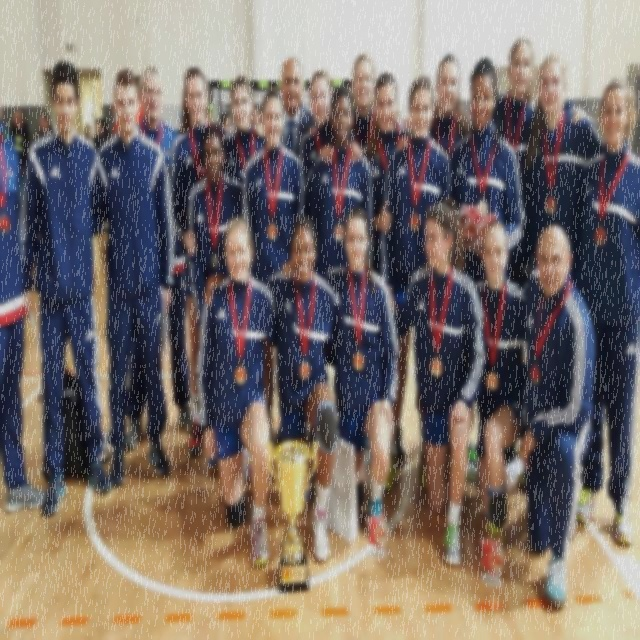pessoa: (202, 216, 340, 564), (16, 55, 112, 524), (280, 203, 404, 560), (90, 66, 176, 490), (393, 195, 489, 568), (572, 74, 640, 553), (381, 74, 452, 496), (520, 224, 596, 611), (198, 215, 280, 570), (122, 65, 194, 452), (490, 37, 590, 290), (168, 64, 230, 460), (242, 91, 305, 449), (0, 70, 48, 520), (524, 53, 604, 284), (474, 219, 526, 561), (449, 56, 527, 283), (309, 83, 376, 289), (186, 122, 248, 324), (360, 71, 412, 278), (300, 68, 364, 218), (398, 52, 474, 160), (222, 72, 266, 188), (278, 55, 316, 159), (352, 54, 374, 162), (7, 108, 31, 206), (248, 104, 266, 138), (37, 111, 54, 139), (98, 116, 112, 145), (82, 122, 95, 150), (92, 117, 100, 155), (220, 112, 232, 134), (204, 104, 213, 126), (396, 111, 404, 125)
